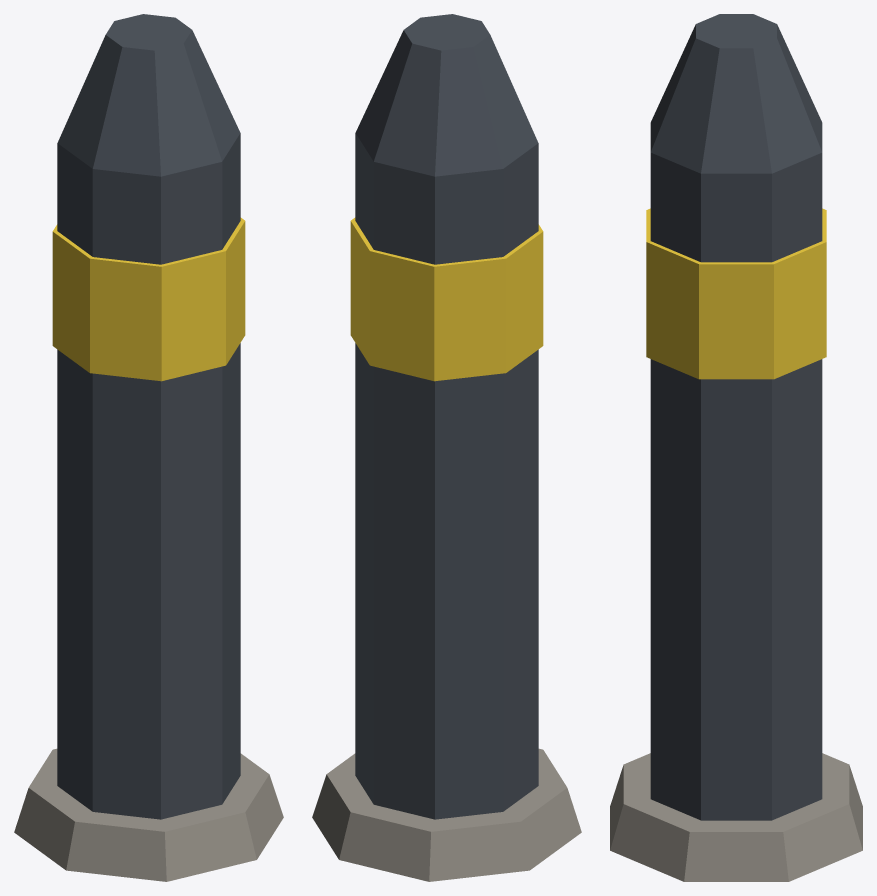
The model's file is bollard.glb.
3 views of the same model, side by side, from view 1: azimuth 30°, elevation 25°; view 2: azimuth 150°, elevation 25°; view 3: azimuth 270°, elevation 25° (orthographic).
Visible parts, largest first — view 1: Body; view 2: Body; view 3: Body.
Part boxes in pixels (box(x1,y1,x2,y2)): Body: box(14, 14, 283, 881); Body: box(312, 14, 581, 881); Body: box(610, 14, 862, 881).
Size of the model in its own units: 0.2587 by 0.9 by 0.2587.
